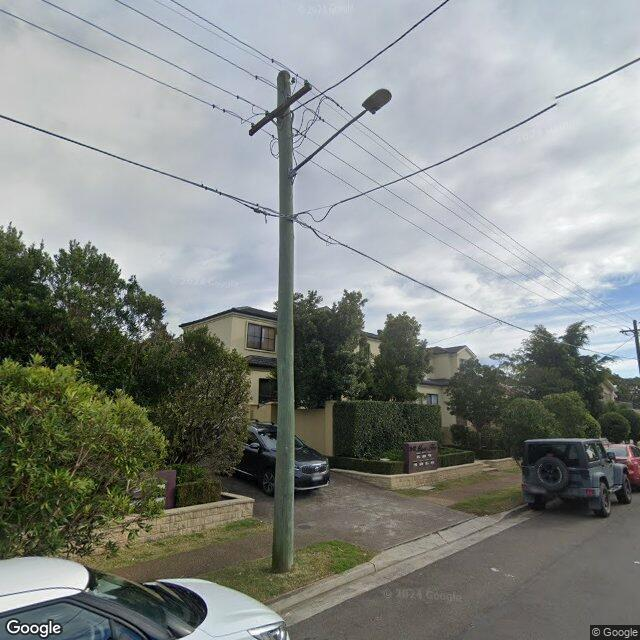crossarm: (248, 82, 313, 136), (620, 328, 640, 333)
streetlight: (292, 86, 393, 180)
timber-pole: (270, 68, 296, 570), (633, 320, 640, 374)
